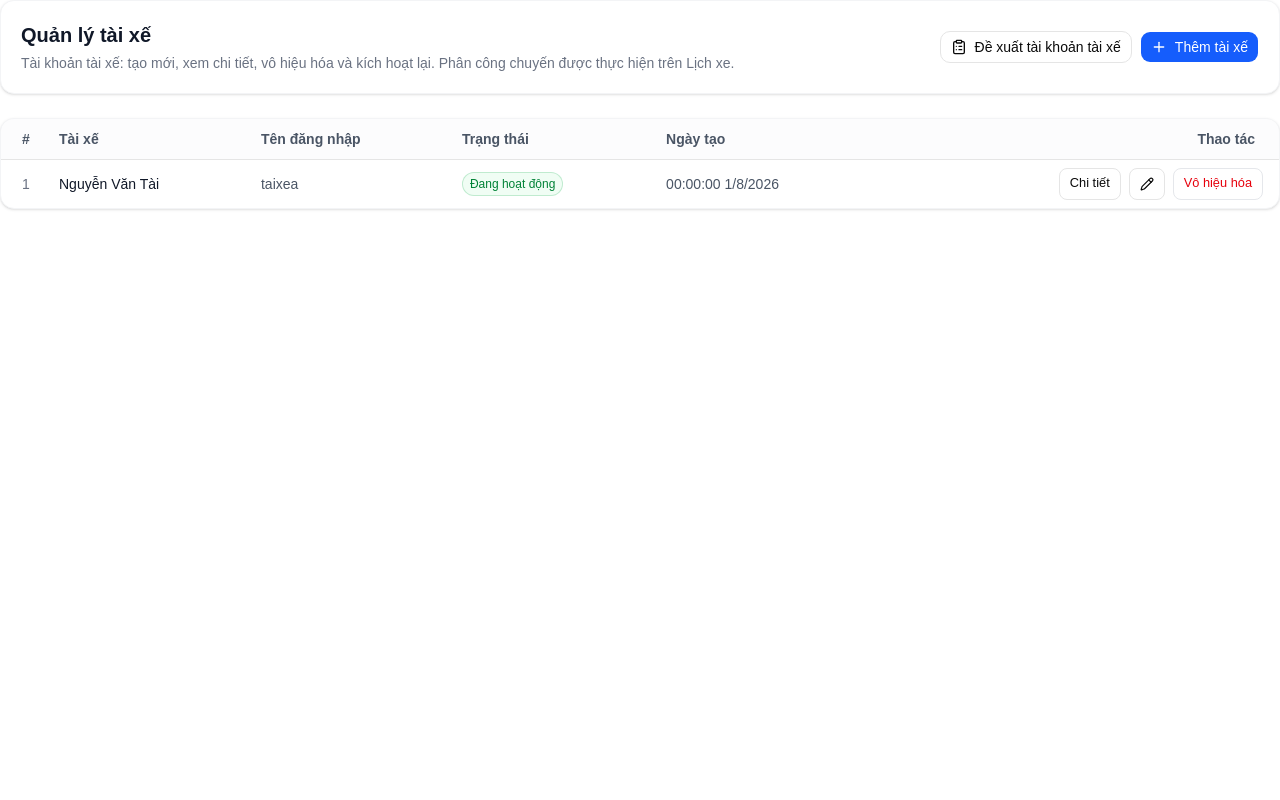
DriverManagementPage › creating a driver › shows the server sentence when creation is refused
Expected: the text "Nguyễn Văn Tài" is shown, [51, 159, 253, 208]
Step 1. Click the button "Thêm tài xế" → x=1199, y=47, box [1140, 31, 1259, 63]
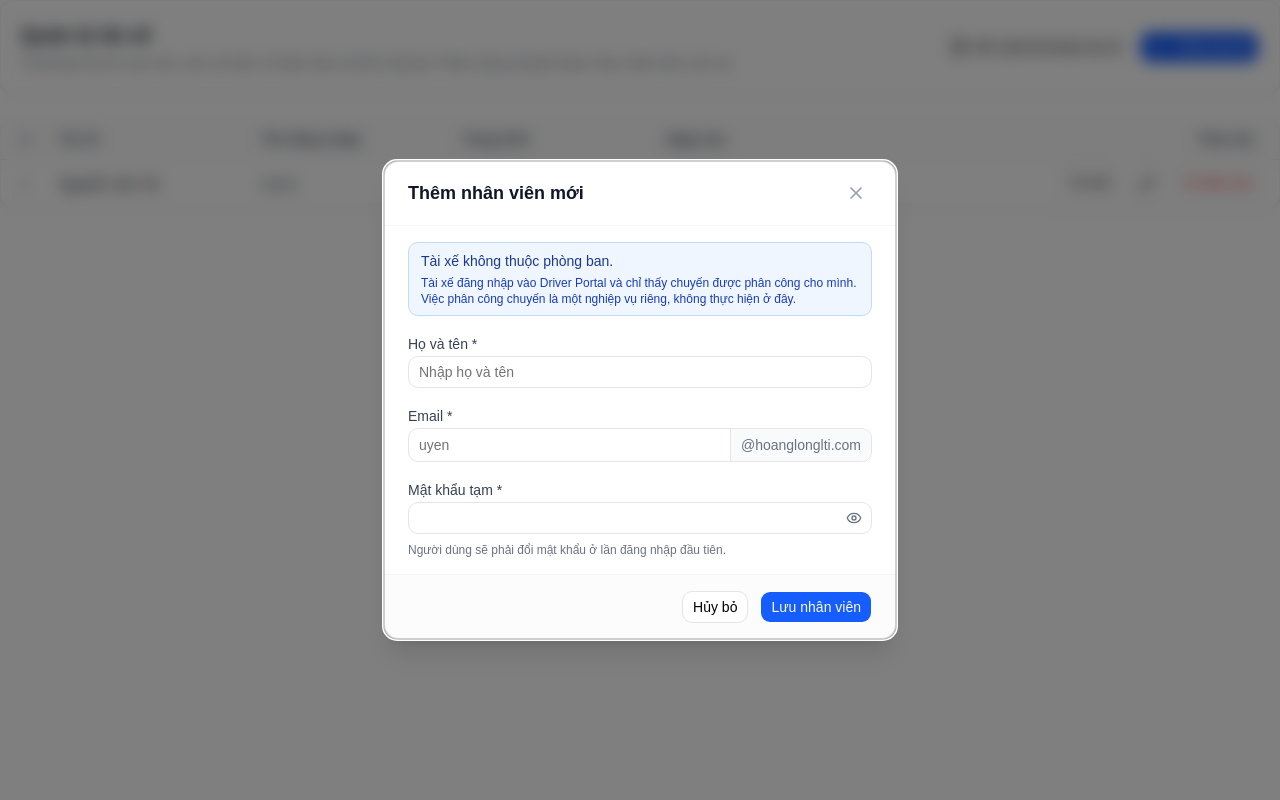
Step 2. Type "X" into the field labelled "Họ và tên *" → x=640, y=372, box [408, 356, 872, 388]
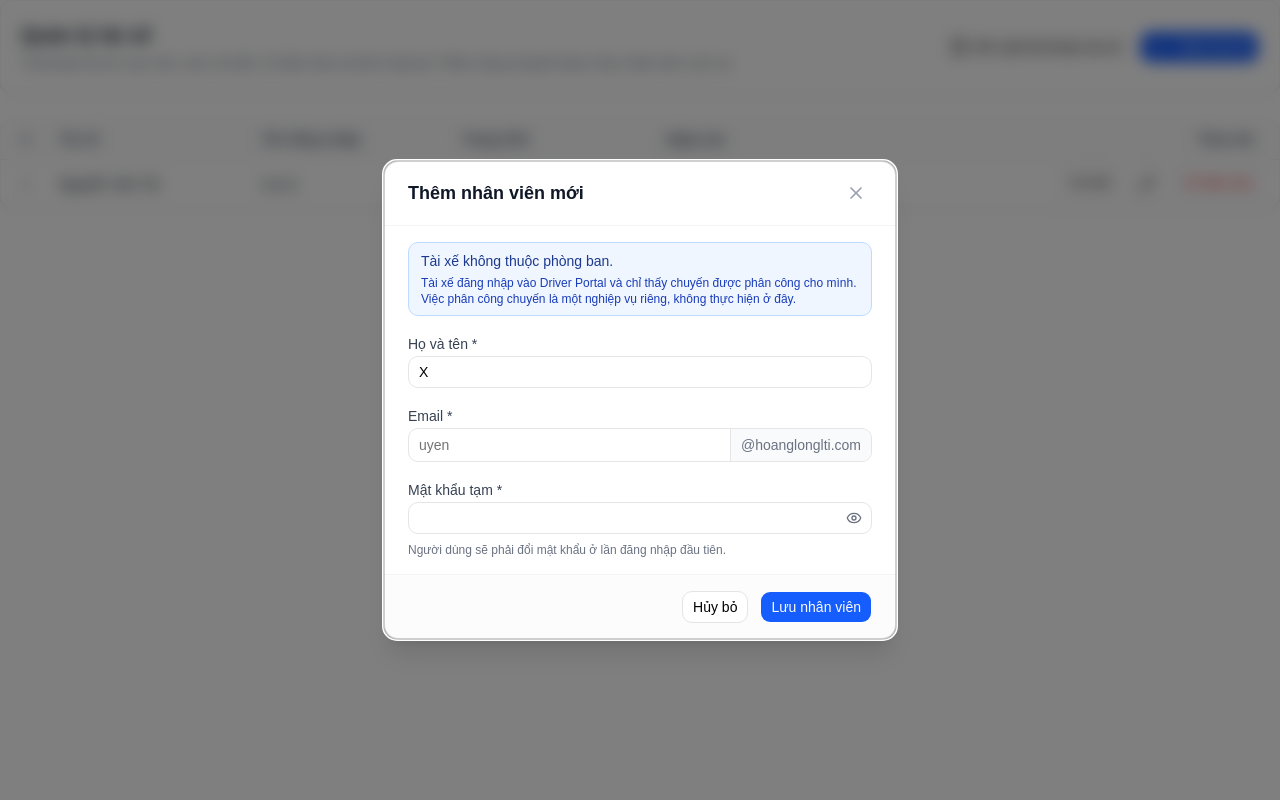
Step 3. Type "x" into the field labelled "Email *" → x=569, y=445, box [409, 429, 730, 461]
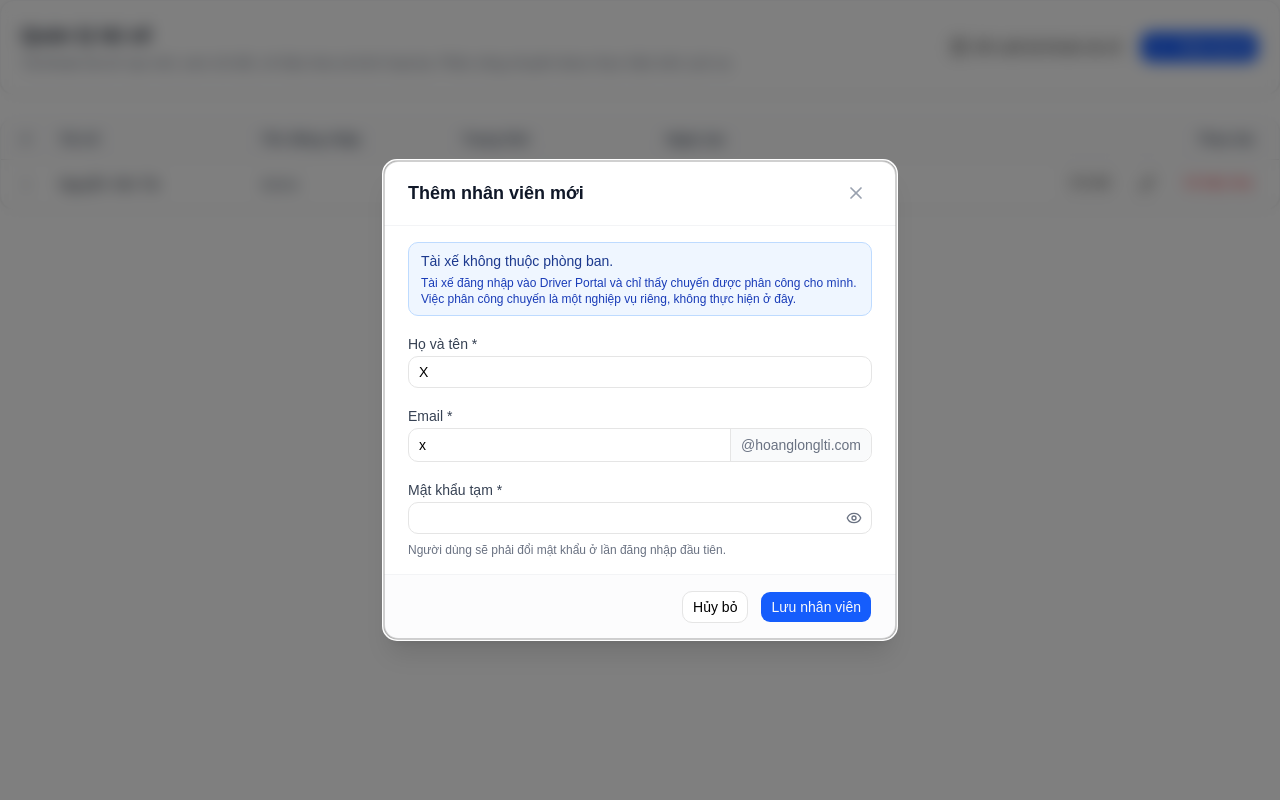
Step 4. Type "Tam-2026!" into the password field labelled "Mật khẩu tạm *" → x=640, y=518, box [408, 502, 872, 534]
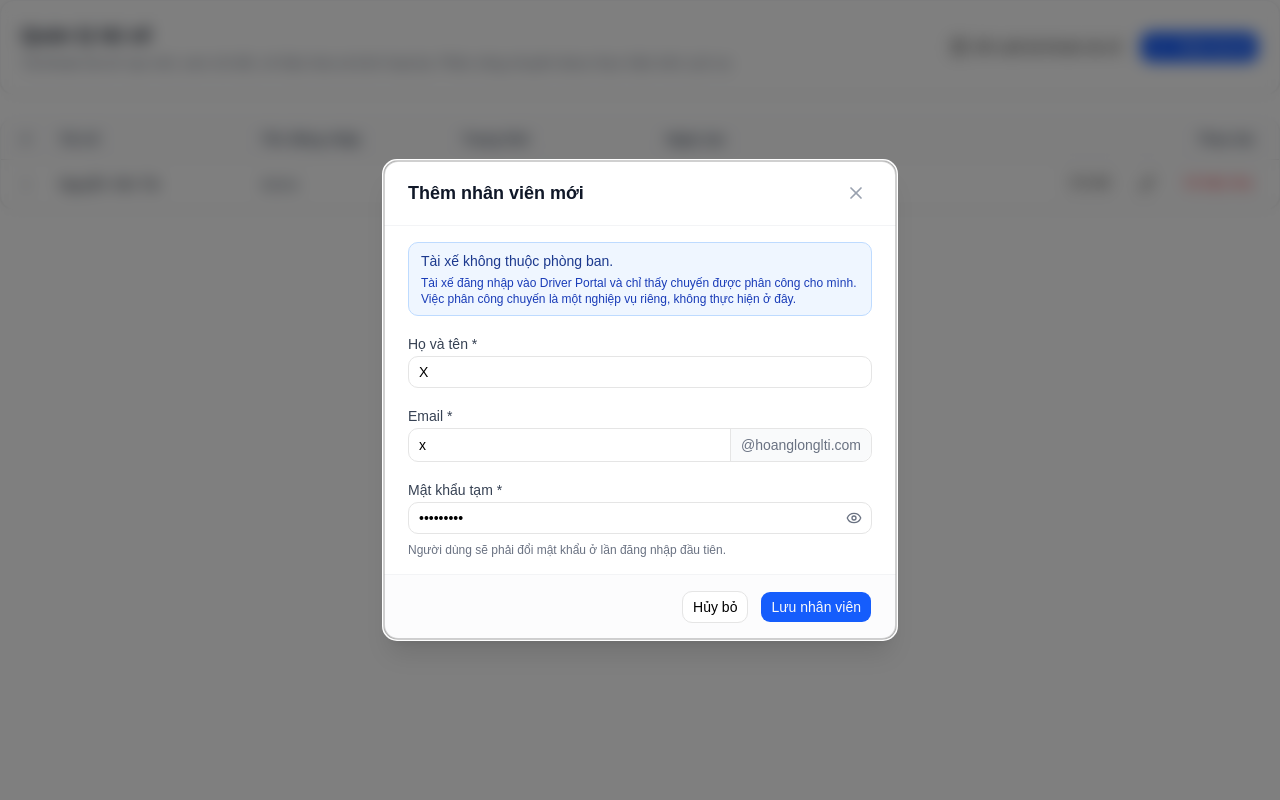
Step 5. Click the button "Lưu nhân viên" → x=816, y=607, box [760, 591, 872, 623]
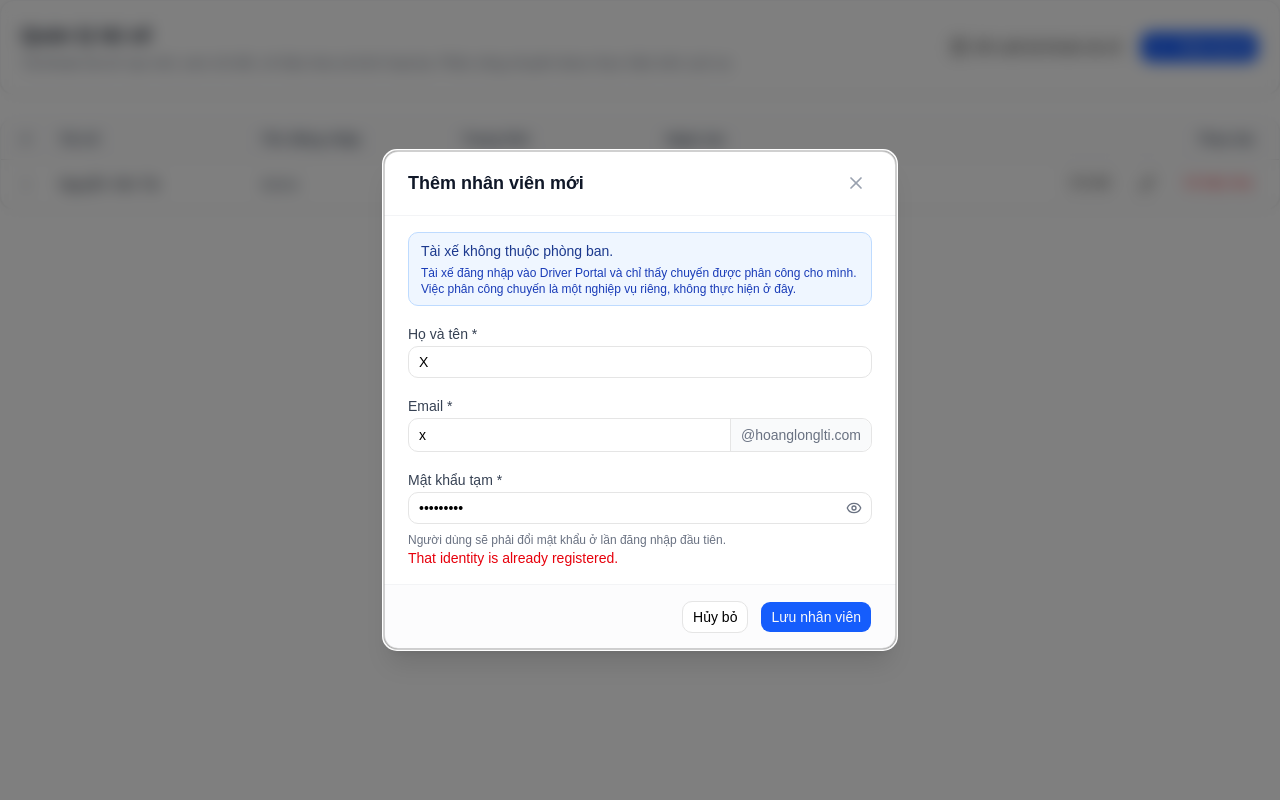
Expected: the text "That identity is already registered." is shown, [408, 550, 618, 566]
